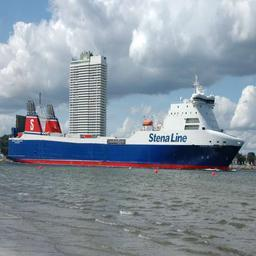Ship: (7, 91, 243, 173)
